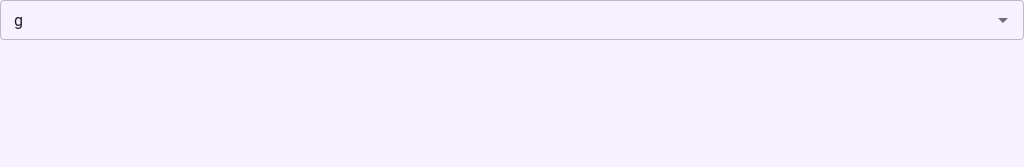
Test: UnitPicker › searches by name and selects a compatible unit with the keyboard
Later steps or results of the test are not shown.
Replace the text in the dropdown with "kilo" at [496, 20], box [6,6,985,34]
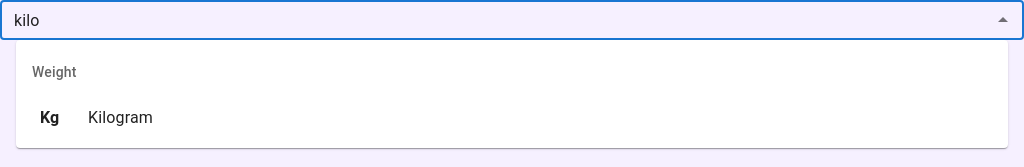
expect the number of options is 1: met, box [40,108,153,127]
